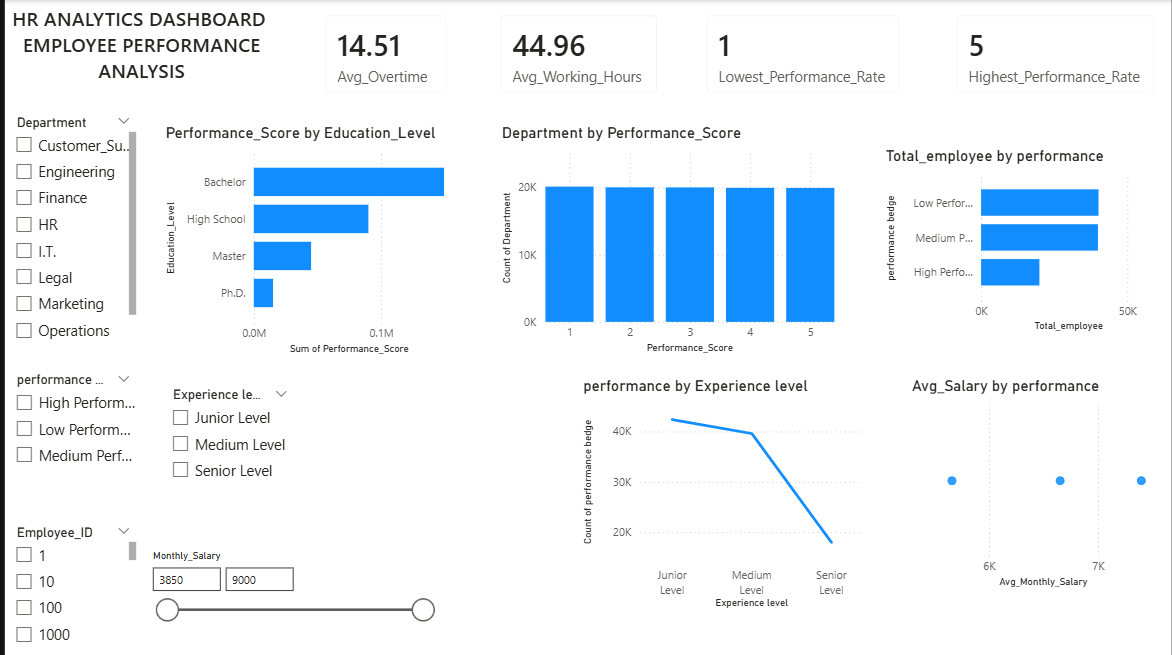

This screenshot's page, from the dashboard's own definition file:
{"tool":"powerbi","page":{"name":"Department & Performance Analysis","canvas":[1280,720],"ordinal":1},"visuals":[{"type":"textbox","box":[0,0,1280.3,67.2],"z":0},{"type":"cardVisual","fields":{"Data":["Measure Table.Avg Department Salary"]},"box":[0,175,320,155],"z":1000},{"type":"cardVisual","fields":{"Data":["Measure Table.Avg Performance Department"]},"box":[320,175,320,155],"z":2000},{"type":"cardVisual","fields":{"Data":["Measure Table.Avg Project Handle"]},"box":[640,175,326.7,155],"z":3000},{"type":"cardVisual","fields":{"Data":["Measure Table.Avg TeamSize"]},"box":[966.7,175,313.3,155],"z":4000},{"type":"clusteredColumnChart","title":"Project Handle By Department","fields":{"Category":["Clean data.Department"],"Y":["Sum(Clean data.Projects_Handled)"]},"box":[1.7,328.3,421.7,195],"z":5000},{"type":"areaChart","title":"Avg Performance By Job Role","fields":{"Category":["Clean data.Job_Title"],"Y":["Avg(Clean data.Performance_Score)"]},"box":[0,523.3,421.7,196.7],"z":6000},{"type":"clusteredColumnChart","title":"Performance Bedge Rank % By Department","fields":{"Y":["CountNonNull(Clean data.Rank_By_Performance)"],"Category":["Clean data.Department"]},"box":[820,328.3,460,195],"z":7000},{"type":"lineChart","title":"Project Handle By Age Group","fields":{"Y":["Sum(Clean data.Projects_Handled)"],"Category":["Clean data.Job_Title"]},"box":[820,521.7,460,196.7],"z":8000},{"type":"clusteredBarChart","title":"Remote Work Frequency By Age ","fields":{"Category":["Clean data.Age_group"],"Y":["CountNonNull(Clean data.Remote_Work_Frequency)"]},"box":[421.7,328.3,398.3,193.3],"z":9000},{"type":"clusteredColumnChart","title":"Working Hours By Department","fields":{"Category":["Clean data.Department"],"Y":["CountNonNull(Clean data.Work_Hours_Per_Week)"]},"box":[423.3,523.3,396.7,196.7],"z":10000},{"type":"slicer","fields":{"Values":["Clean data.Department"]},"box":[0,90.8,281.1,74.6],"z":11000},{"type":"slicer","fields":{"Values":["Clean data.Job_Title"]},"box":[502.6,100.8,273.1,75.5],"z":12000},{"type":"slicer","fields":{"Values":["Clean data.Age_group"]},"box":[988.9,89.6,291.1,74.6],"z":13000}]}

Visuals, with their boxes in screenshot pixels (x1, y1, x2, y2), scaled from the page's 1280x720 canvas onto the 1172x655 screenshot:
textbox: bbox=(0, 0, 1171, 61)
cardVisual - Measure Table.Avg Department Salary: bbox=(0, 159, 293, 300)
cardVisual - Measure Table.Avg Performance Department: bbox=(293, 159, 586, 300)
cardVisual - Measure Table.Avg Project Handle: bbox=(586, 159, 885, 300)
cardVisual - Measure Table.Avg TeamSize: bbox=(885, 159, 1171, 300)
"Project Handle By Department" clusteredColumnChart: bbox=(2, 299, 388, 476)
"Avg Performance By Job Role" areaChart: bbox=(0, 476, 386, 654)
"Performance Bedge Rank % By Department" clusteredColumnChart: bbox=(751, 299, 1171, 476)
"Project Handle By Age Group" lineChart: bbox=(751, 475, 1171, 654)
"Remote Work Frequency By Age " clusteredBarChart: bbox=(386, 299, 751, 475)
"Working Hours By Department" clusteredColumnChart: bbox=(388, 476, 751, 654)
slicer - Clean data.Department: bbox=(0, 83, 257, 150)
slicer - Clean data.Job_Title: bbox=(460, 92, 710, 160)
slicer - Clean data.Age_group: bbox=(905, 82, 1171, 149)
